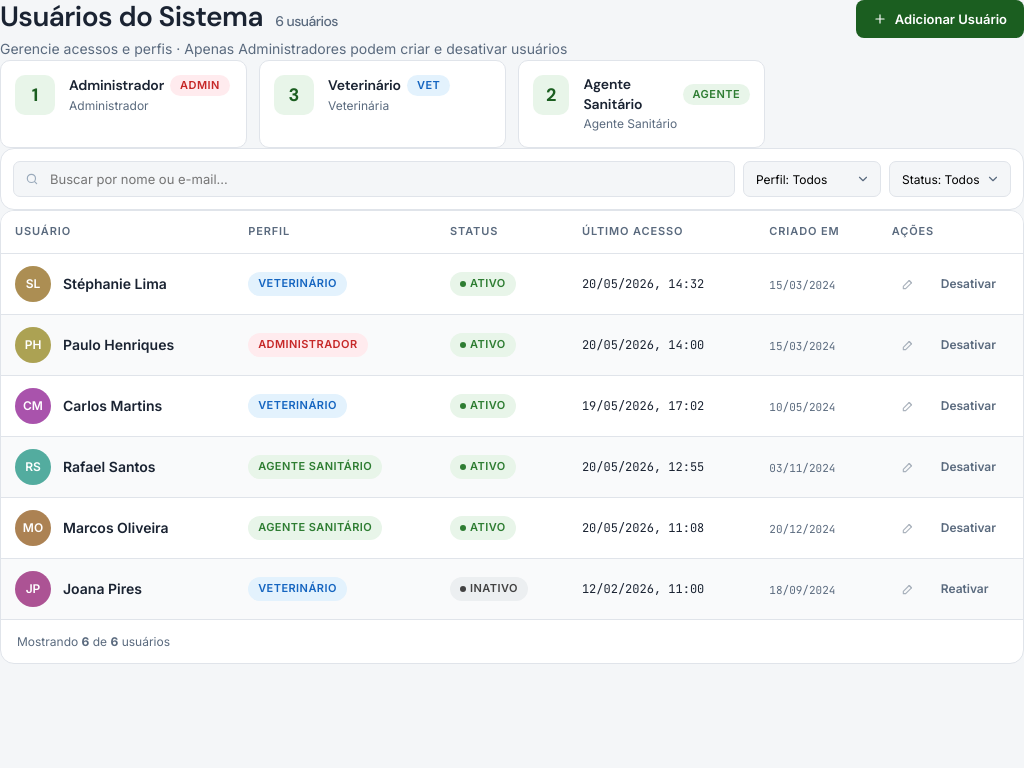
Test case: Usuarios › exige perfil ao criar usuário sem selecionar nenhum
Click the button "Adicionar Usuário" at (940, 19), box [856,0,1023,38]
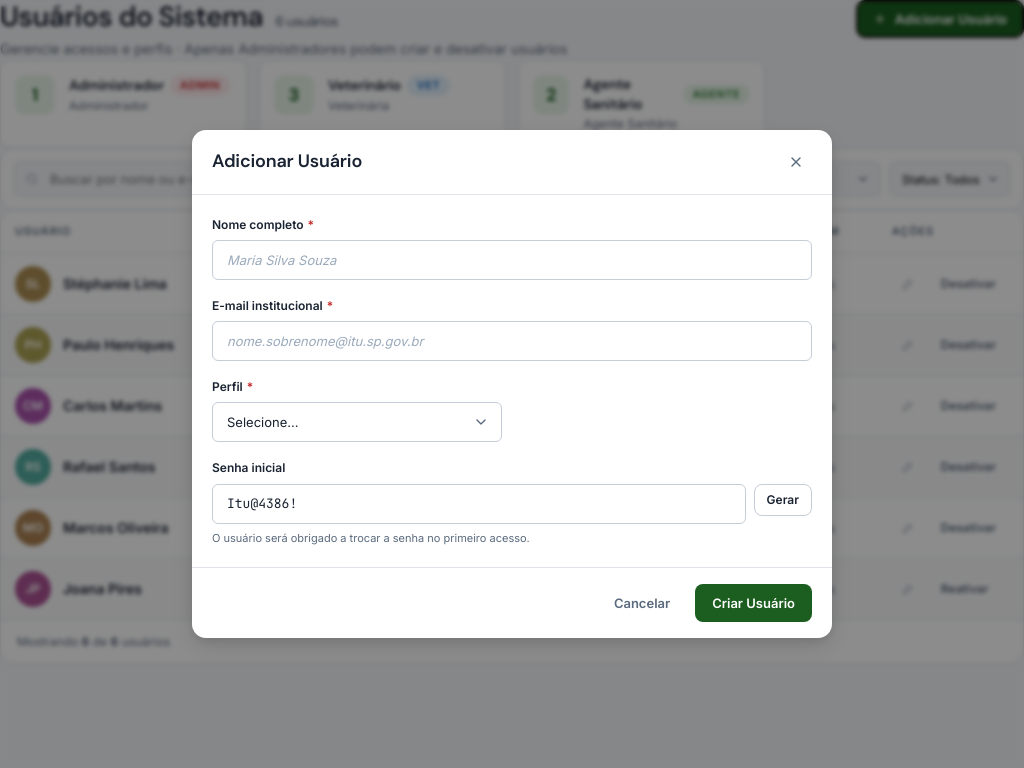
Type "Fernanda Rocha" into the field labelled "Nome completo *" at (512, 260), box [212,240,812,280]
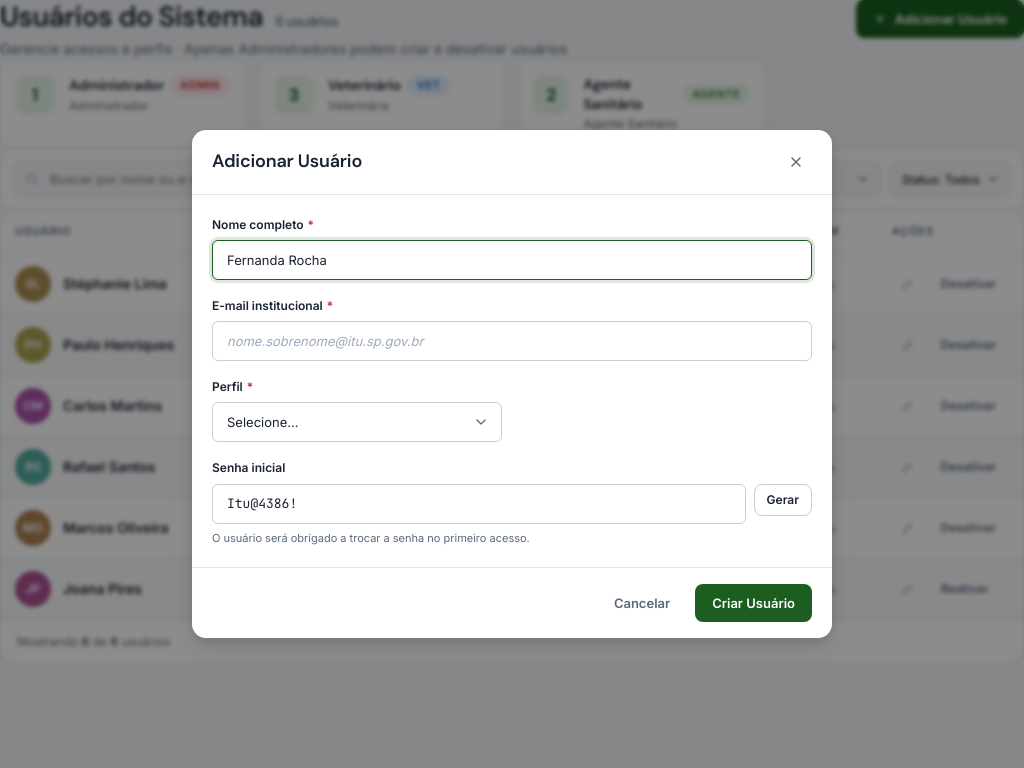
Type "fernanda.rocha@itu.sp.gov.br" into the field labelled "E-mail institucional *" at (512, 341), box [212,321,812,361]
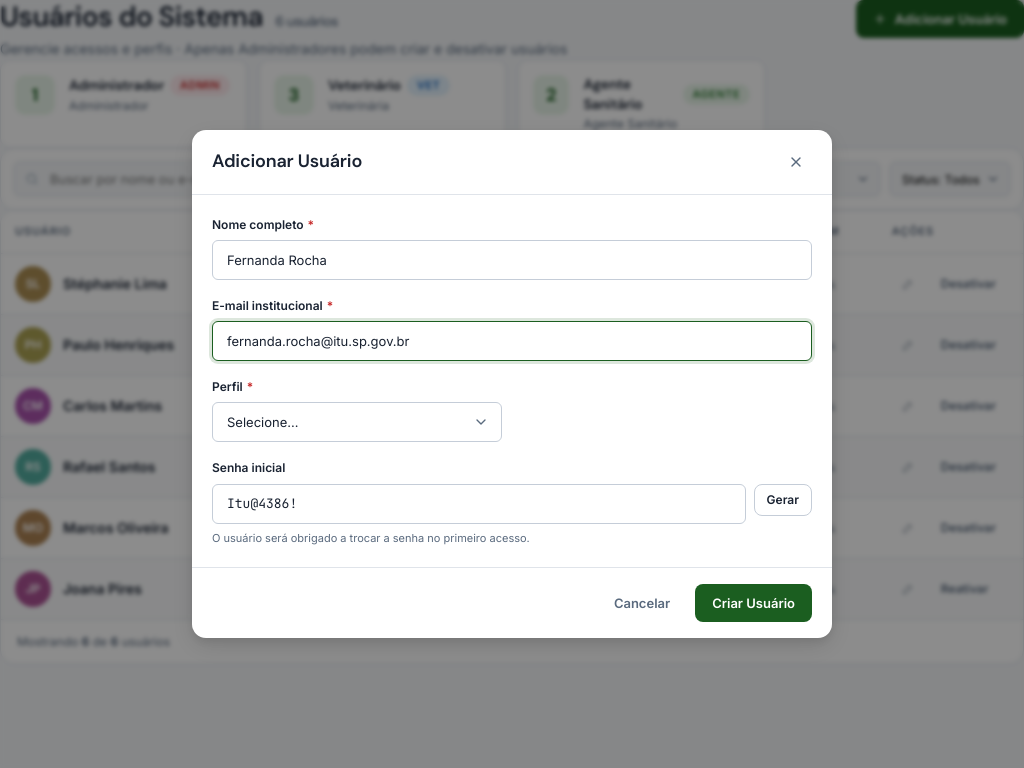
Click the button "Criar Usuário" at (754, 603), box [695,584,812,622]
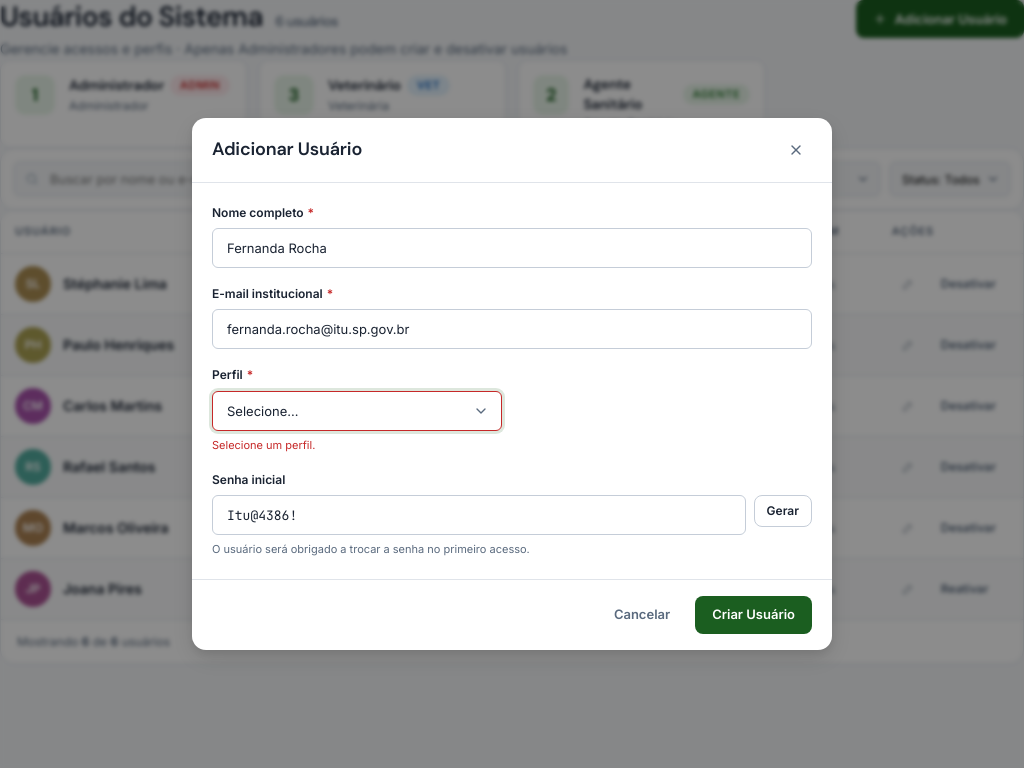
Check: the text "Selecione um perfil." is shown, box [212,438,315,452]
